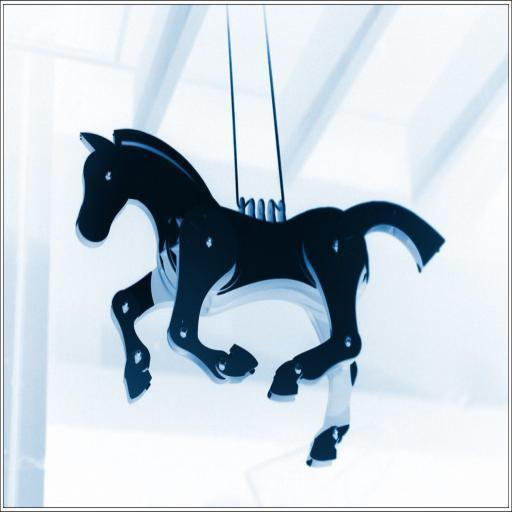horse: (72, 130, 448, 465)
